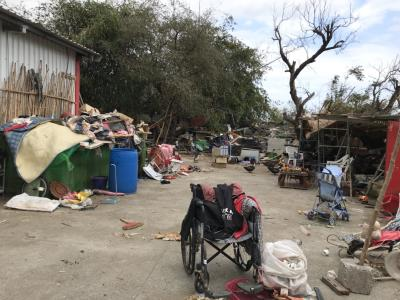bucket: (106, 146, 140, 194)
plastic_bag: (260, 240, 308, 291)
